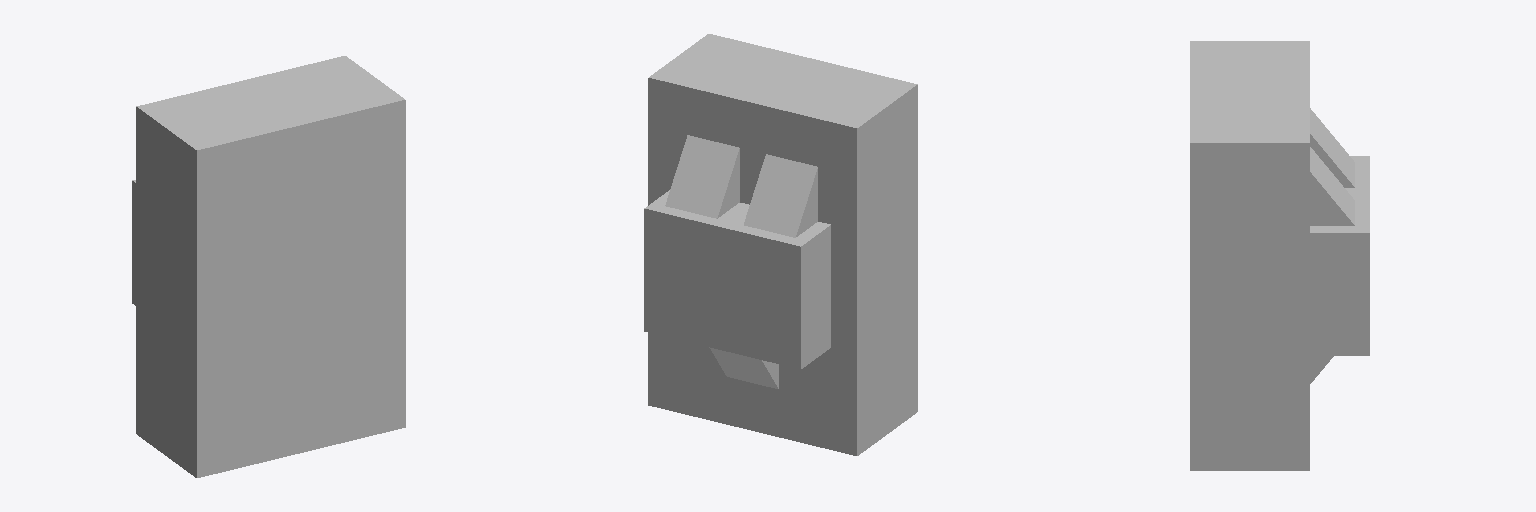
File: compressor.obj
The picture shows the model from 3 angles: view 1: azimuth 30°, elevation 25°; view 2: azimuth 150°, elevation 25°; view 3: azimuth 270°, elevation 25°; orthographic projection.
Visible parts, largest first — view 1: BodyOverlay_Cube.002; view 2: BodyOverlay_Cube.002, Main_Cube.001, CubeTopRight_Cube.007, CubeTopLeft_Cube.008, CubeBottom_Cube.004; view 3: BodyOverlay_Cube.002, Main_Cube.001, CubeTopRight_Cube.007, CubeTopLeft_Cube.008.
Part boxes in pixels (x1,y1,x2,y2): BodyOverlay_Cube.002: (136,56,405,477); BodyOverlay_Cube.002: (648,34,917,455); Main_Cube.001: (644,190,830,369); CubeTopRight_Cube.007: (665,135,739,218); CubeTopLeft_Cube.008: (744,154,817,237); CubeBottom_Cube.004: (709,347,778,388); BodyOverlay_Cube.002: (1190,41,1309,470); Main_Cube.001: (1310,156,1369,355); CubeTopRight_Cube.007: (1310,147,1354,225); CubeTopLeft_Cube.008: (1310,108,1354,187).
Size of the model in its own units: 1.6 by 2.4 by 1.2.